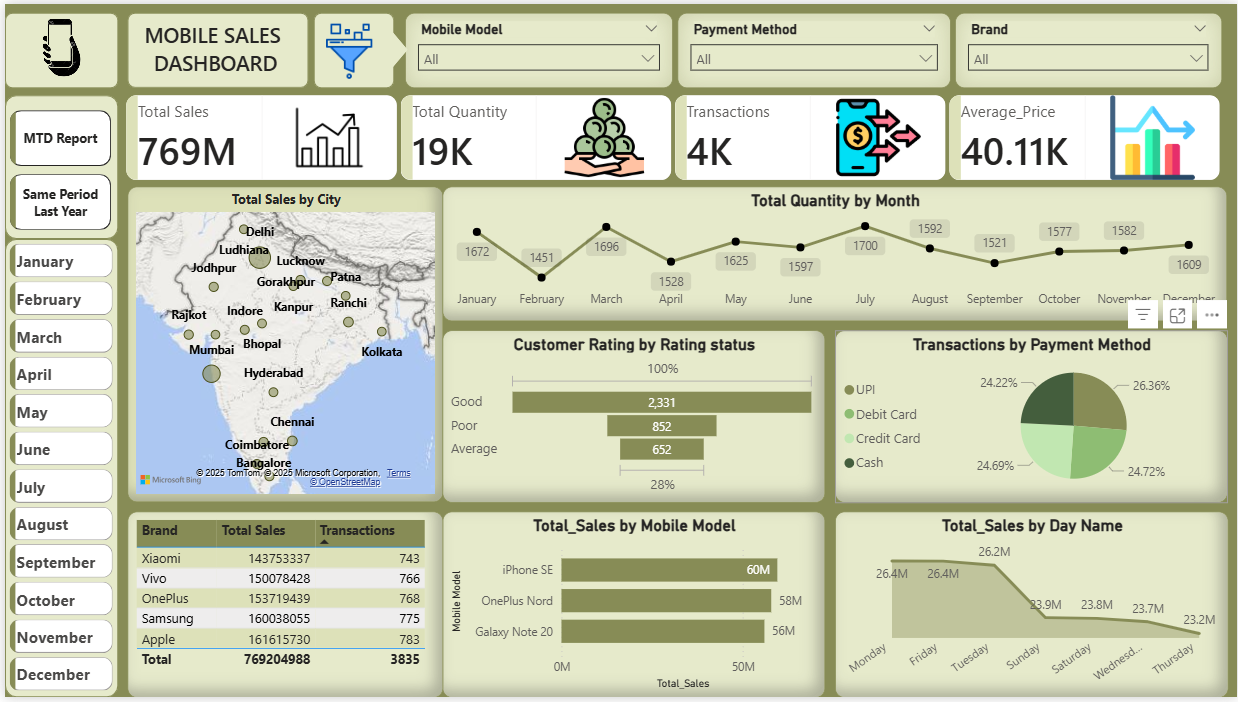

The page's visual inventory and layout, read from the dashboard file:
{"tool":"powerbi","page":{"name":"Dashboard","canvas":[1280,720],"ordinal":0},"visuals":[{"type":"shape","box":[0,8.9,117.7,78.5],"z":0},{"type":"image","box":[0,0,117.8,110],"z":1000},{"type":"shape","box":[0,244.3,117.7,475.9],"z":2000},{"type":"shape","box":[0,94.9,117.7,149.4],"z":3000},{"type":"advancedSlicerVisual","fields":{"Values":["Custom Calender.Date.Variation.Date Hierarchy.Month"]},"box":[0,244.3,117.7,475.9],"z":4000},{"type":"cardVisual","fields":{"Data":["Mobile Sales Data.Total_Sales","Mobile Sales Data.Total_Quantity","Mobile Sales Data.Transactions","Mobile Sales Data.Average_Price"]},"box":[108.9,78.5,1170.9,122.8],"z":5000},{"type":"slicer","fields":{"Values":["Mobile Sales Data.Mobile Model"]},"box":[415.3,8.7,278.7,78.7],"z":6000},{"type":"slicer","fields":{"Values":["Mobile Sales Data.Payment Method"]},"box":[698.7,8.7,284,78.7],"z":7000},{"type":"slicer","fields":{"Values":["Mobile Sales Data.Brand"]},"box":[987.3,8.9,277.2,78.5],"z":8000},{"type":"shape","box":[320.3,8.9,83.5,78.5],"z":9000},{"type":"image","box":[300,19,115.2,59.5],"z":10000},{"type":"shape","box":[384.8,27.8,34.2,40.5],"z":11000},{"type":"shape","box":[127.3,9.3,188,78],"z":12000},{"type":"textbox","box":[136.7,12.7,164.6,68.4],"z":13000},{"type":"map","title":"Total Sales by City","fields":{"Category":["Mobile Sales Data.City"],"Size":["Mobile Sales Data.Total_Sales"]},"box":[126.9,189.7,328.2,328.2],"z":14000},{"type":"lineChart","title":"Total Quantity by Month","fields":{"Category":["Custom Calender.Date.Variation.Date Hierarchy.Month"],"Y":["Mobile Sales Data.Total_Quantity"]},"box":[455.1,189.7,815.4,139.7],"z":15000},{"type":"funnel","title":"Customer Rating by Rating status","fields":{"Y":["CountNonNull(Mobile Sales Data.Customer Age)"],"Category":["Mobile Sales Data.Rating status"]},"box":[455.1,338.5,397.4,179.5],"z":16000},{"type":"pieChart","fields":{"Y":["Mobile Sales Data.Transactions"],"Category":["Mobile Sales Data.Payment Method"]},"box":[862.8,338.5,407.7,179.5],"z":17000},{"type":"clusteredBarChart","fields":{"Y":["Mobile Sales Data.Total_Sales"],"Category":["Mobile Sales Data.Mobile Model"]},"box":[455.1,526.9,397.4,193.6],"z":18000},{"type":"areaChart","fields":{"Category":["Custom Calender.Day Name"],"Y":["Mobile Sales Data.Total_Sales"]},"box":[862.8,526.9,409,193.6],"z":19000},{"type":"tableEx","fields":{"Values":["Mobile Sales Data.Brand","Mobile Sales Data.Total_Sales","Mobile Sales Data.Transactions"]},"box":[126.9,526.9,328.2,193.6],"z":20000},{"type":"pageNavigator","box":[5.7,110,105.7,124.3],"z":21500}]}

Visuals, with their boxes in screenshot pixels (x1, y1, x2, y2), scaled from the page's 1280x720 canvas onto the 1238x702 screenshot:
shape: bbox=(0, 9, 114, 85)
image: bbox=(0, 0, 114, 107)
shape: bbox=(0, 238, 114, 701)
shape: bbox=(0, 93, 114, 238)
advancedSlicerVisual - Custom Calender.Date.Variation.Date Hierarchy.Month: bbox=(0, 238, 114, 701)
cardVisual - Mobile Sales Data.Total_Sales x Mobile Sales Data.Total_Quantity: bbox=(105, 77, 1237, 196)
slicer - Mobile Sales Data.Mobile Model: bbox=(402, 8, 671, 85)
slicer - Mobile Sales Data.Payment Method: bbox=(676, 8, 950, 85)
slicer - Mobile Sales Data.Brand: bbox=(955, 9, 1223, 85)
shape: bbox=(310, 9, 391, 85)
image: bbox=(290, 19, 402, 77)
shape: bbox=(372, 27, 405, 67)
shape: bbox=(123, 9, 305, 85)
textbox: bbox=(132, 12, 291, 79)
"Total Sales by City" map: bbox=(123, 185, 440, 505)
"Total Quantity by Month" lineChart: bbox=(440, 185, 1229, 321)
"Customer Rating by Rating status" funnel: bbox=(440, 330, 825, 505)
pieChart - Mobile Sales Data.Transactions x Mobile Sales Data.Payment Method: bbox=(834, 330, 1229, 505)
clusteredBarChart - Mobile Sales Data.Total_Sales x Mobile Sales Data.Mobile Model: bbox=(440, 514, 825, 701)
areaChart - Custom Calender.Day Name x Mobile Sales Data.Total_Sales: bbox=(834, 514, 1230, 701)
tableEx - Mobile Sales Data.Brand x Mobile Sales Data.Total_Sales: bbox=(123, 514, 440, 701)
pageNavigator: bbox=(6, 107, 108, 228)
